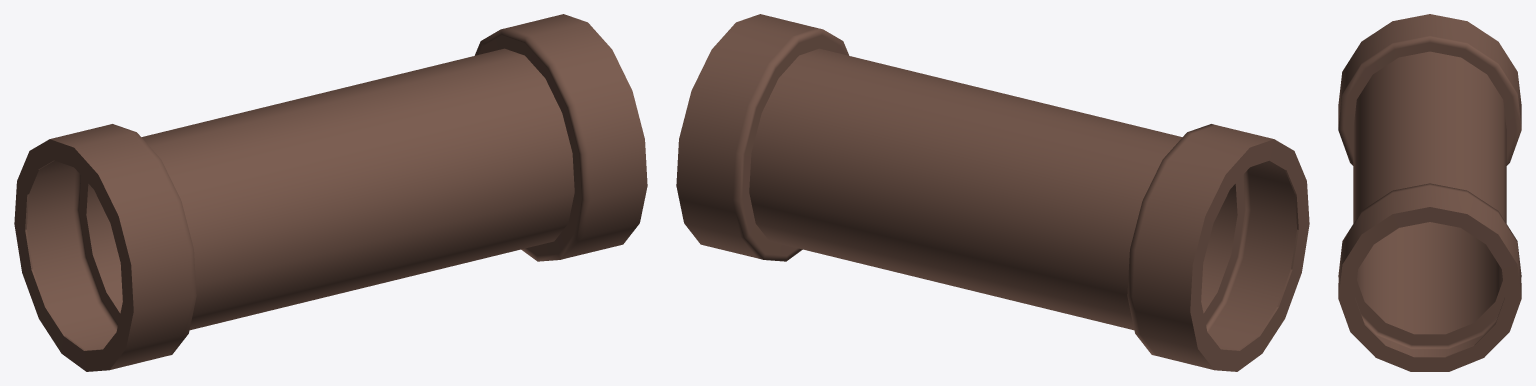
The model's file is fbx_straight_pipe.fbx.
3 renders of one model, left to right at view 1: azimuth 30°, elevation 25°; view 2: azimuth 150°, elevation 25°; view 3: azimuth 270°, elevation 25°, orthographic. The views are drawn at different scales.
Parts seen in each view (by area): view 1: straight.pipe; view 2: straight.pipe; view 3: straight.pipe.
Part boxes in pixels (x1,y1,x2,y2): straight.pipe: [14, 14, 647, 371]; straight.pipe: [676, 14, 1309, 371]; straight.pipe: [1338, 14, 1521, 371].
Bounding box in the file's own units: 243 × 604 × 242.
